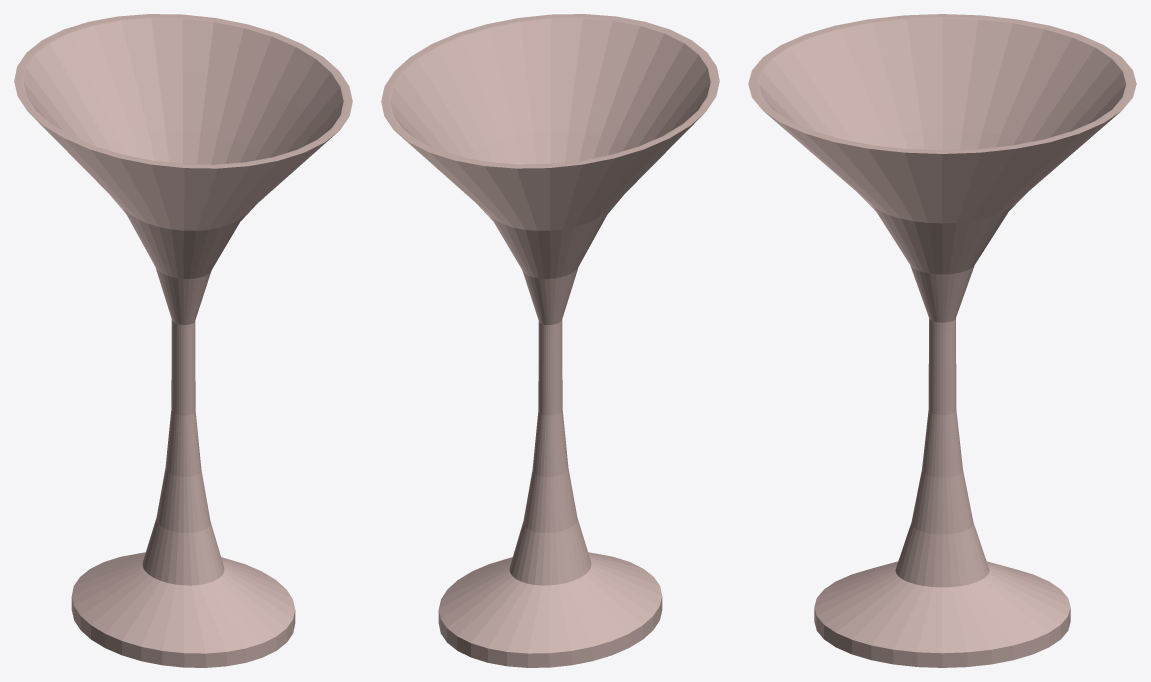
Rendered from wine_cup.glb.
3 renders of one model, left to right at view 1: azimuth 30°, elevation 25°; view 2: azimuth 150°, elevation 25°; view 3: azimuth 270°, elevation 25°, orthographic. The views are drawn at different scales.
Visible parts, largest first — view 1: Raw_geometry_0; view 2: Raw_geometry_0; view 3: Raw_geometry_0.
Part boxes in pixels (x1,y1,x2,y2): Raw_geometry_0: [14, 14, 352, 667]; Raw_geometry_0: [381, 14, 719, 667]; Raw_geometry_0: [748, 14, 1136, 667].
Size of the model in its own units: 0.4681 by 0.8384 by 0.5489.
1 material, 1 textured.
